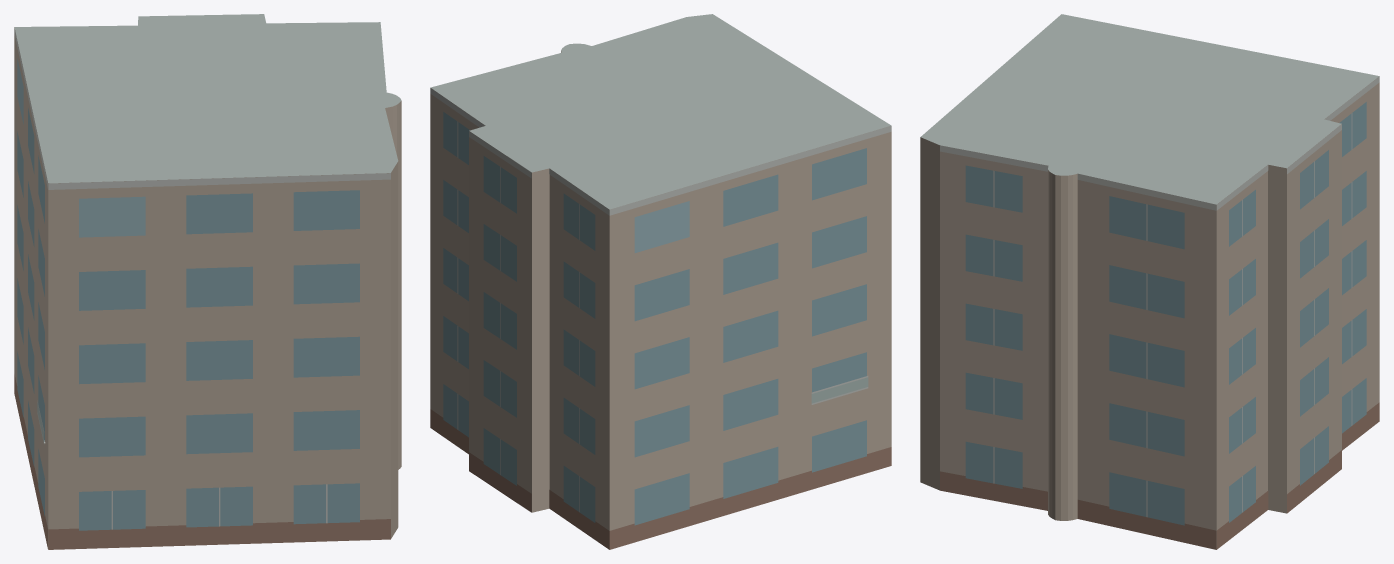
Rendered from survey-upis-32774052.glb.
3 renders of one model, left to right at view 1: azimuth 30°, elevation 25°; view 2: azimuth 150°, elevation 25°; view 3: azimuth 270°, elevation 25°, orthographic. The views are drawn at different scales.
Parts seen in each view (by area): view 1: survey-upis-32774052.tmp; view 2: survey-upis-32774052.tmp; view 3: survey-upis-32774052.tmp.
Boxes of the visible parts, <box> form: survey-upis-32774052.tmp: <box>14,14,401,549</box>; survey-upis-32774052.tmp: <box>430,14,891,549</box>; survey-upis-32774052.tmp: <box>920,14,1379,549</box>.
Bounding box in the file's own units: 16.11 × 13.6 × 16.4.
